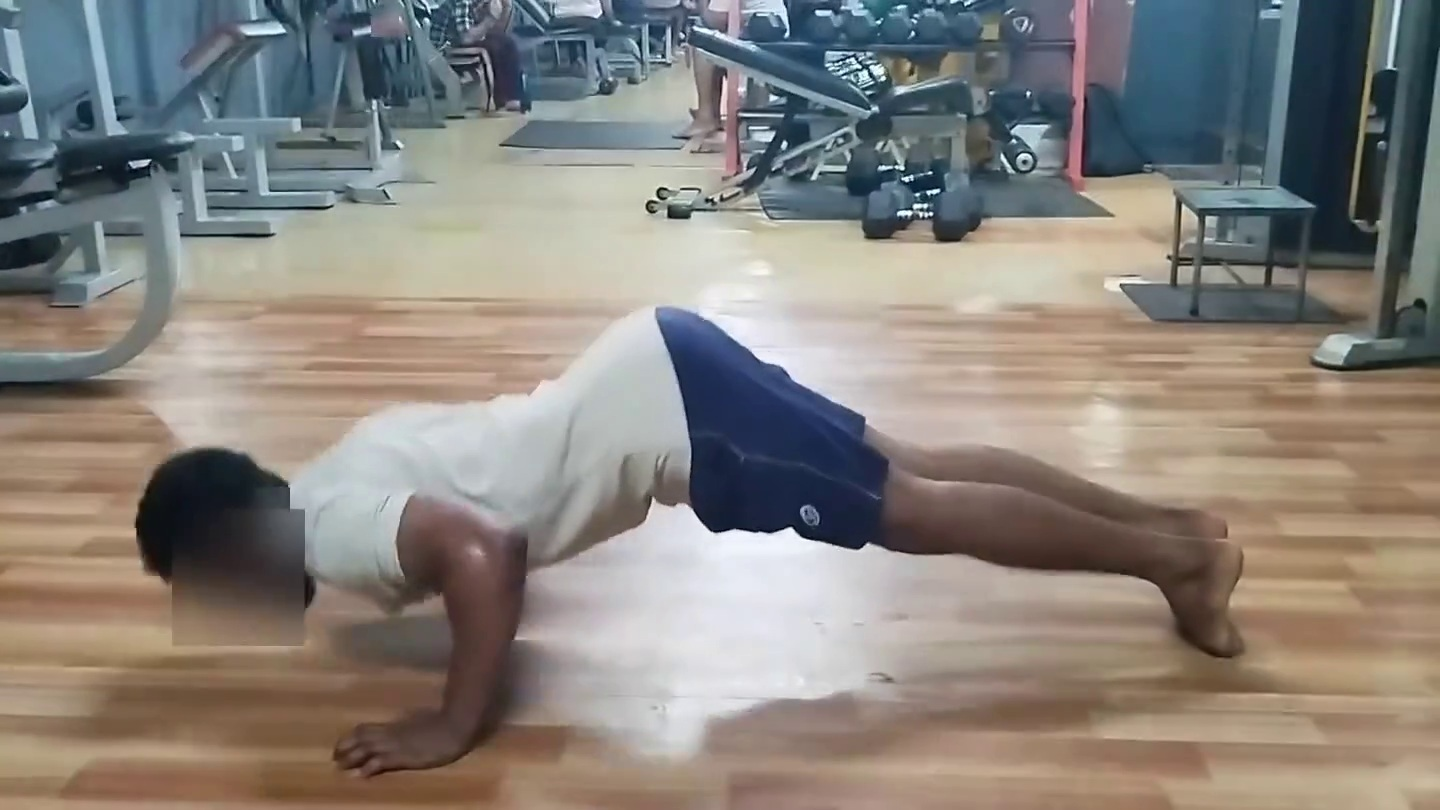push_up_incorrect: (101, 299, 1315, 810)
